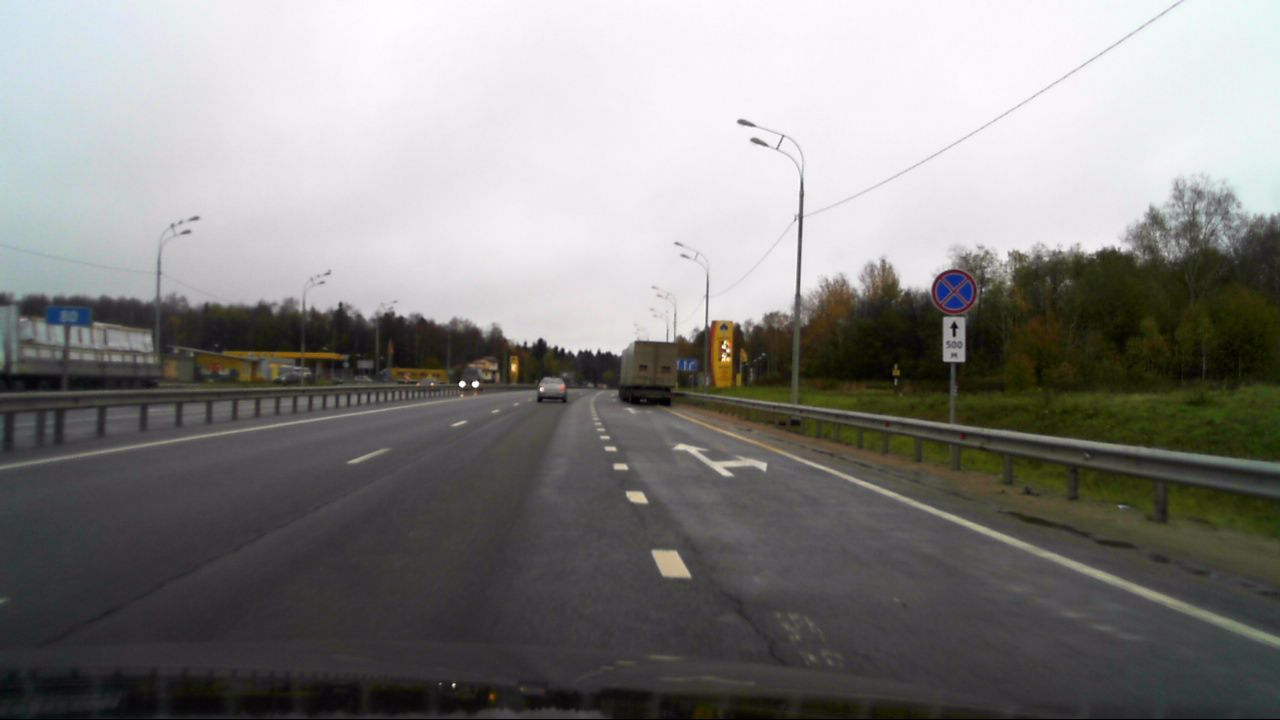No Parking: (935, 269, 976, 312)
